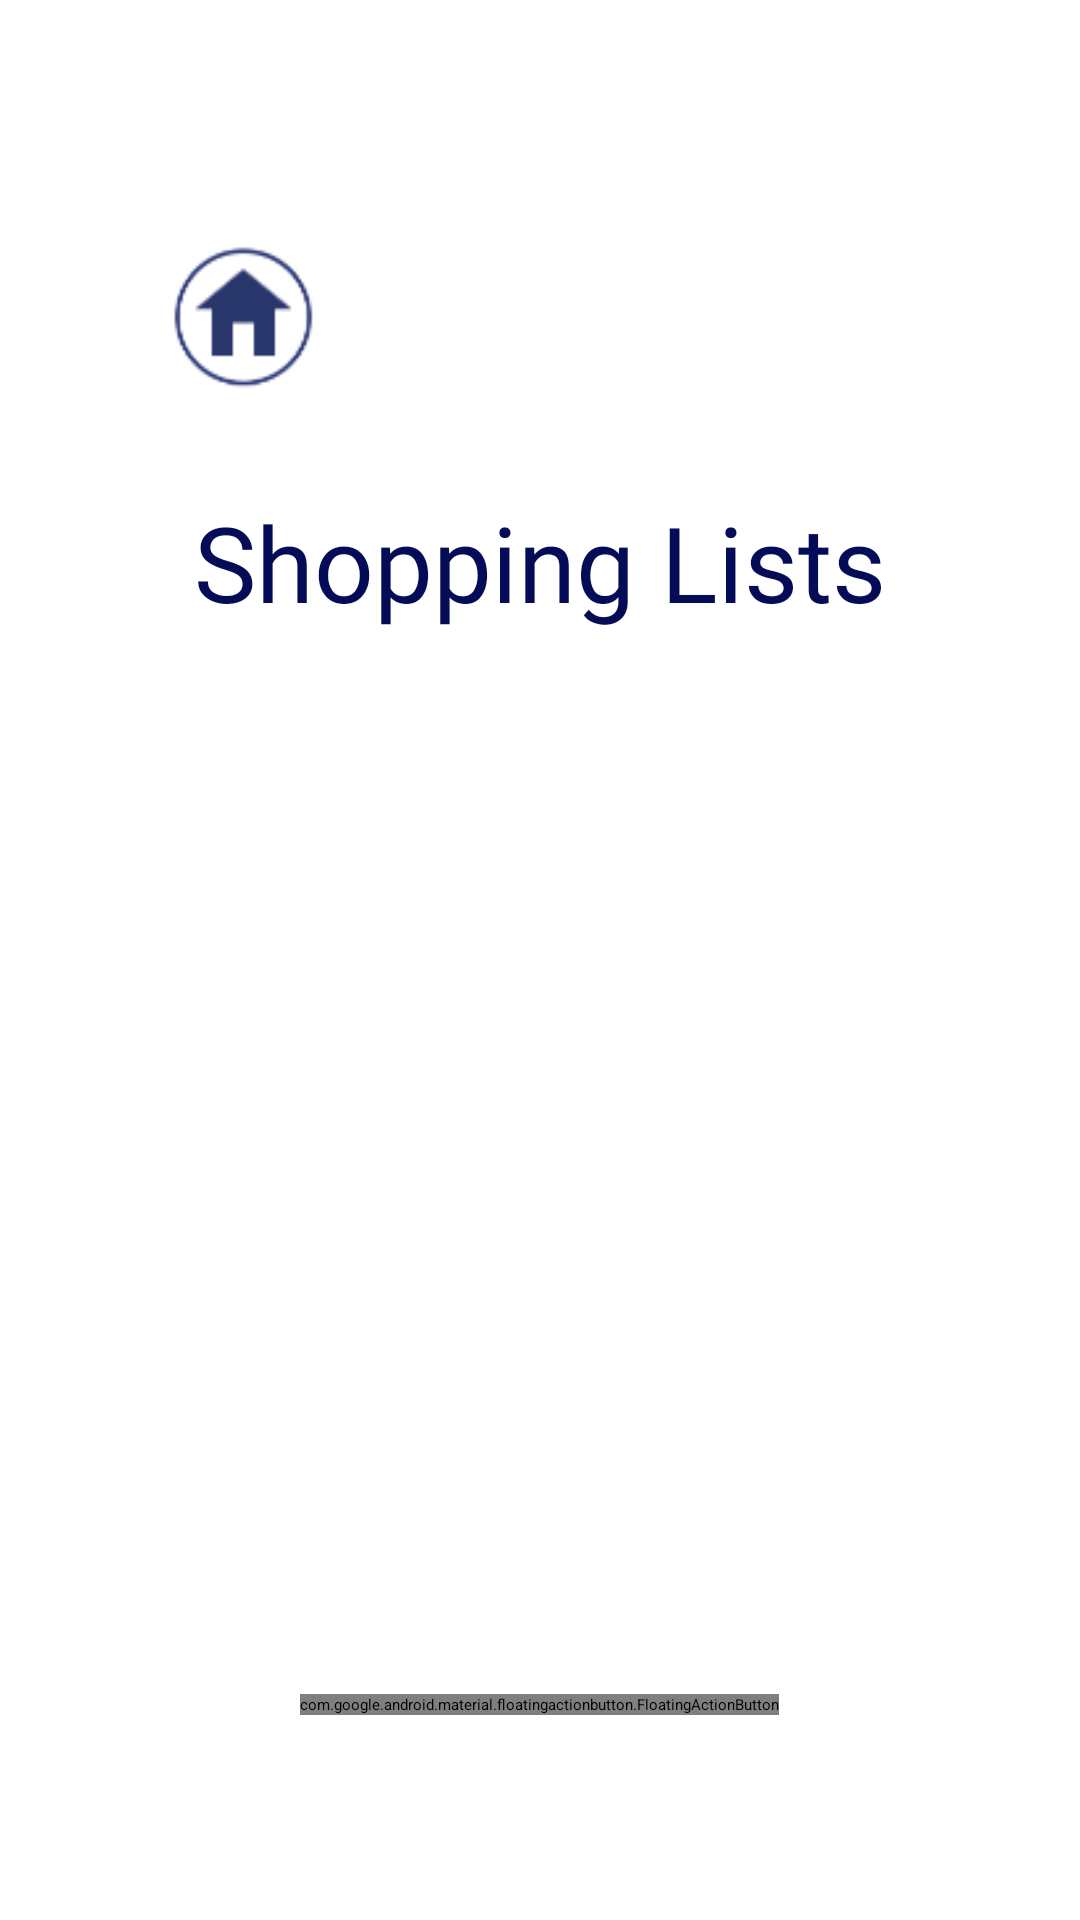

Icon bounding boxes for this 1080px x 1920px phone screenshot, format box(x1, y1, x2, y2):
Home Button: box(174, 247, 313, 387)
